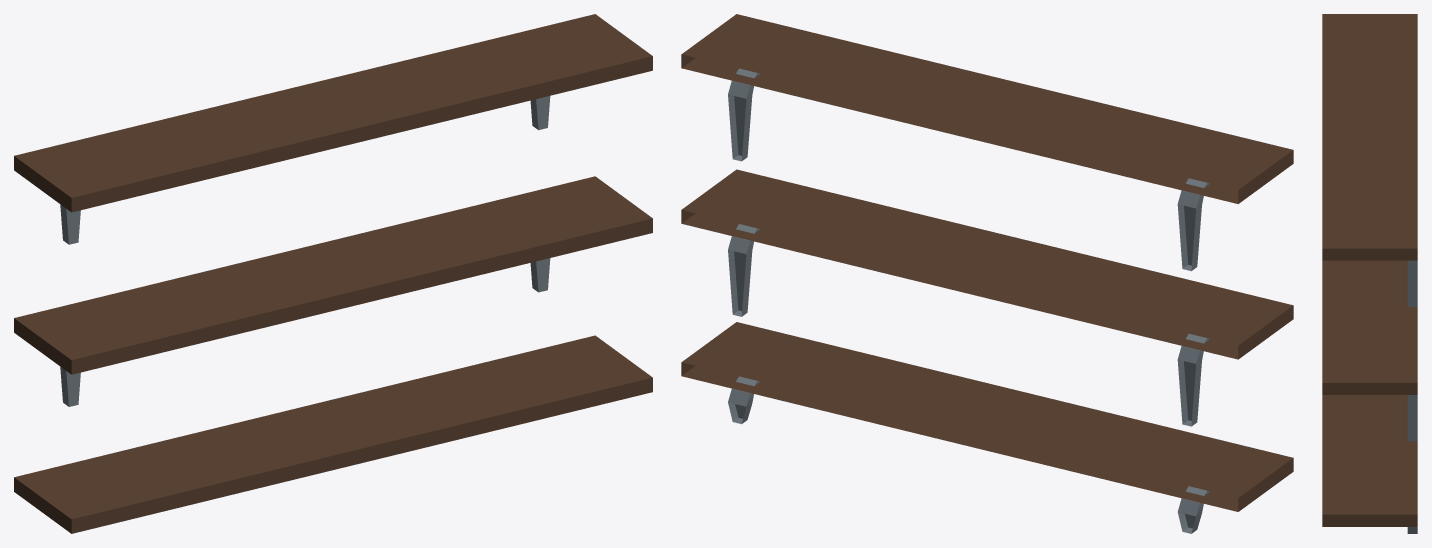
Rendered from SM_Bld_Shelf_01.fbx.
3 views of the same model, side by side, from view 1: azimuth 30°, elevation 25°; view 2: azimuth 150°, elevation 25°; view 3: azimuth 270°, elevation 25° (orthographic). The views are drawn at different scales.
Parts seen in each view (by area): view 1: SM_Bld_Shelf_01; view 2: SM_Bld_Shelf_01; view 3: SM_Bld_Shelf_01.
Boxes of the visible parts, x1=… form: SM_Bld_Shelf_01: x1=14, y1=14, x2=652, y2=533; SM_Bld_Shelf_01: x1=681, y1=14, x2=1293, y2=533; SM_Bld_Shelf_01: x1=1322, y1=14, x2=1417, y2=533.
Size of the model in its own units: 242 by 147 by 41.53.
Materials: 1 (1 with a texture image).
